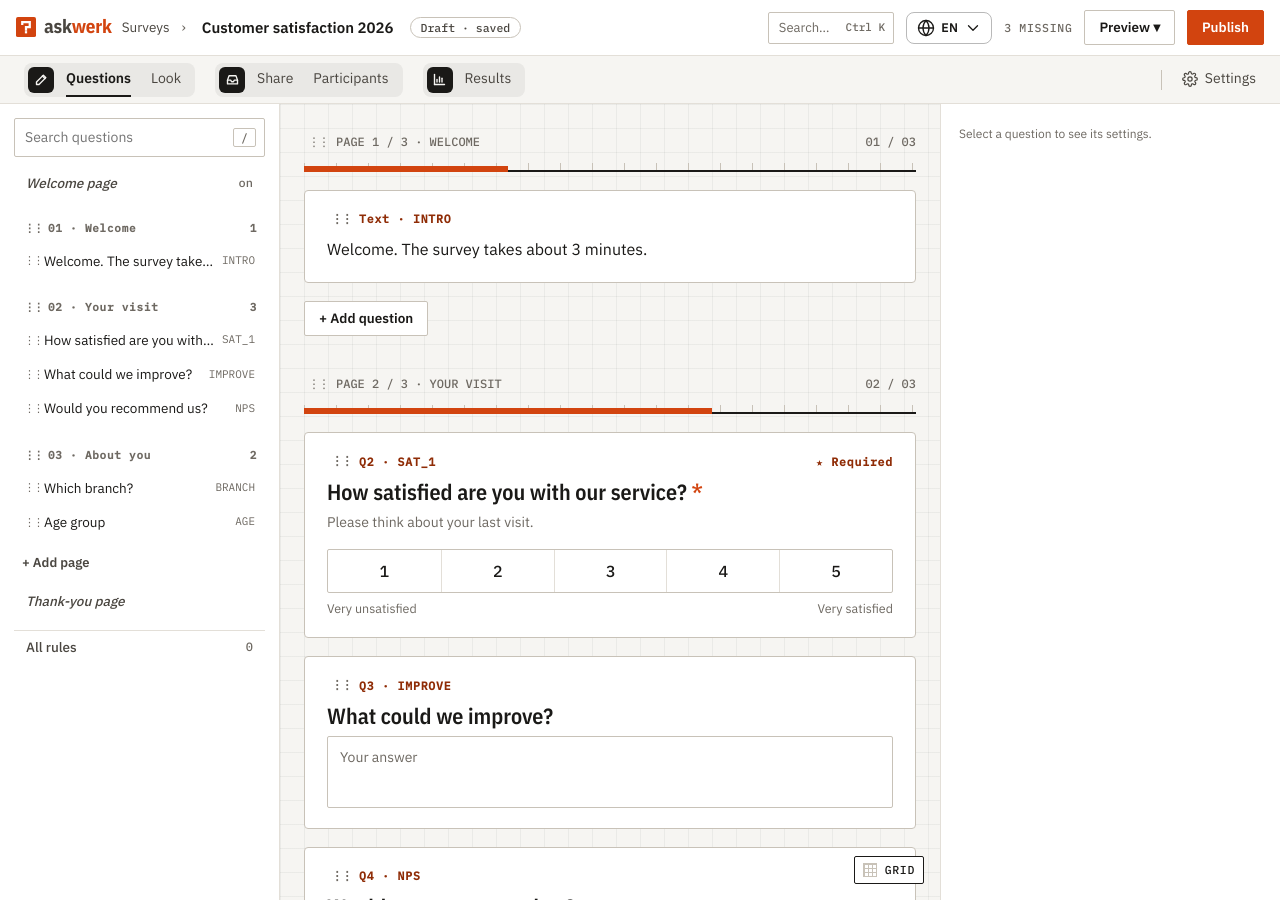
Test: Designer main screen (M1) › switches the survey language and marks texts that are not translated yet
Expected: the navigation bar named "Outline" is shown, 0,104 -> 280,899
Click the button "EN": {"x": 949, "y": 28} 906,12 -> 992,44
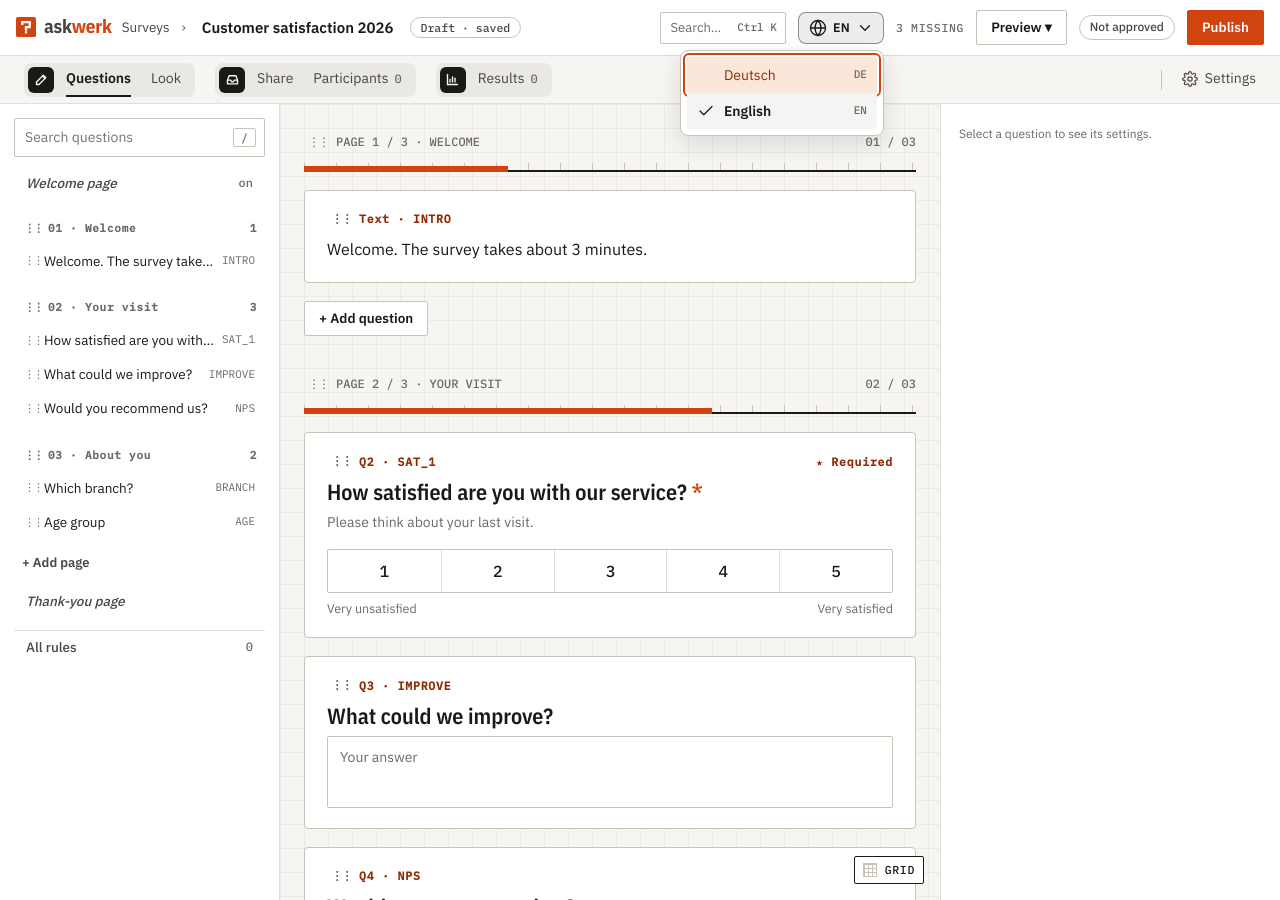
Click the menu item "Deutsch DE": {"x": 782, "y": 75} 687,56 -> 877,93
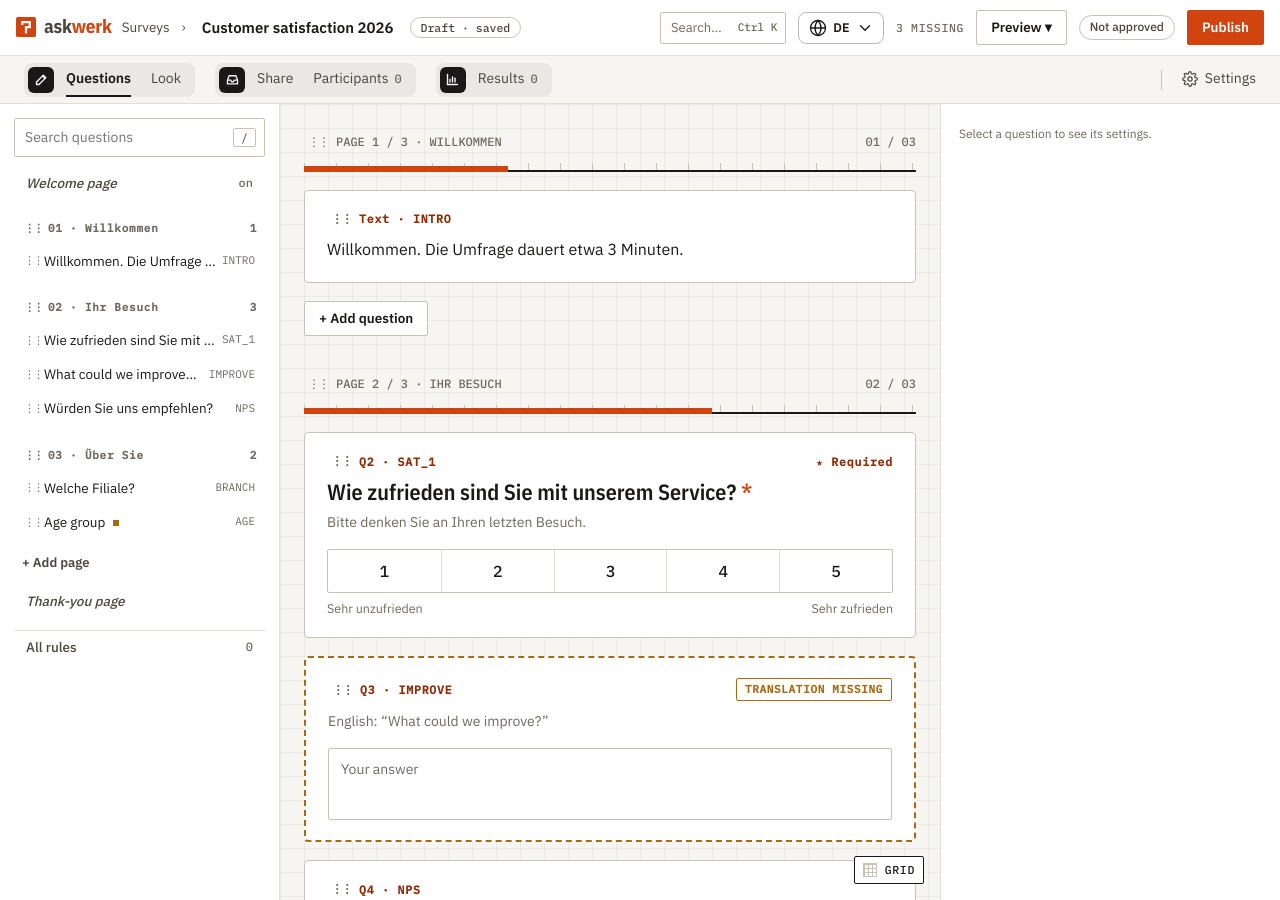
Result: the heading "Wie zufrieden sind Sie mit unserem Service?" is shown at 327,477 -> 752,506
Result: the text "Translation missing" is shown at 736,678 -> 892,701
Result: the text "English: “What could we improve?”" is shown at 328,712 -> 548,730
